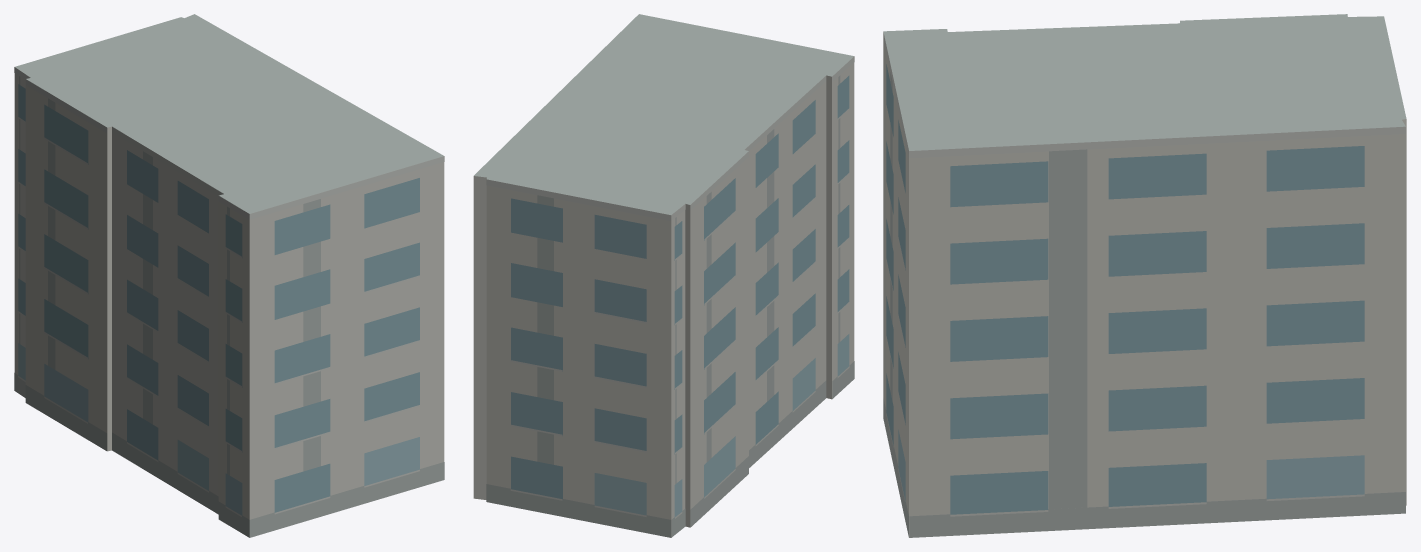
Rendered from survey-upis-32941122.glb.
3 views of the same model, side by side, from view 1: azimuth 30°, elevation 25°; view 2: azimuth 150°, elevation 25°; view 3: azimuth 270°, elevation 25° (orthographic). The views are drawn at different scales.
Parts seen in each view (by area): view 1: survey-upis-32941122.tmp; view 2: survey-upis-32941122.tmp; view 3: survey-upis-32941122.tmp.
Part boxes in pixels (x1,y1,x2,y2): survey-upis-32941122.tmp: [14, 14, 444, 537]; survey-upis-32941122.tmp: [473, 14, 854, 537]; survey-upis-32941122.tmp: [883, 14, 1406, 537].
Size of the model in its own units: 10.08 by 13.25 by 16.25.
